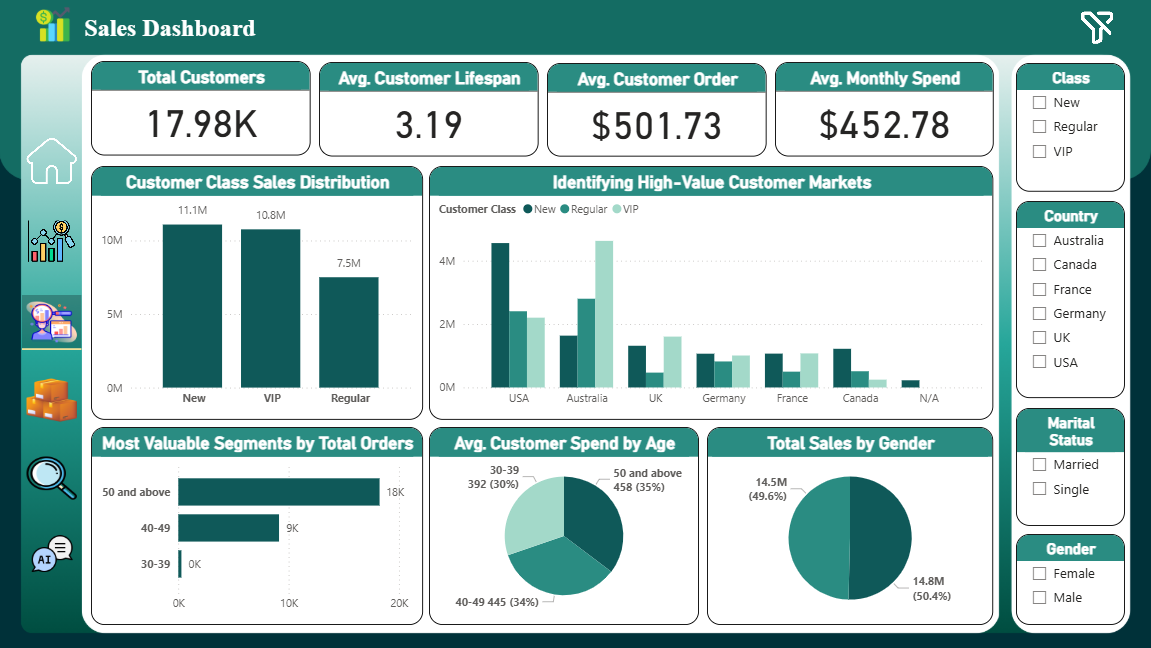

The dashboard page shown, as its layout file describes it:
{"tool":"powerbi","page":{"name":"Customer Analytics","canvas":[1280,720],"ordinal":2},"visuals":[{"type":"textbox","title":"Sales Dashboard","box":[82.2,15.6,215.6,38.9],"z":0,"group":"g1"},{"type":"card","title":"Total Customers","fields":{"Values":["Count(gold fact_sales.customer_key)"]},"box":[102.1,68.1,244.1,105],"z":0},{"type":"image","box":[27.8,0,63.3,54.4],"z":1000,"group":"g1"},{"type":"card","title":"Avg. Customer Order","fields":{"Values":["gold dim_customers.Avg_Customer_Order"]},"box":[608.9,70,244.1,104.1],"z":1000},{"type":"lineClusteredColumnComboChart","title":"Customer Class Sales Distribution","fields":{"Category":["gold report_customers.customer_segment"],"Y":["Sum(gold report_customers.total_sales)"]},"box":[102.2,184.4,368.9,282.2],"z":2000},{"type":"barChart","title":"Most Valuable Segments by Total Orders","fields":{"Category":["gold report_customers.age_group"],"Y":["Sum(gold report_customers.total_orders)"]},"box":[102.1,474.4,368.9,220],"z":3000},{"type":"pieChart","title":"Avg. Customer Spend by Age","fields":{"Category":["gold report_customers.age_group"],"Y":["Avg(gold report_customers.avg_monthly_spend)"]},"box":[477.8,474.4,300,220],"z":4000},{"type":"pieChart","title":"Total Sales by Gender","fields":{"Category":["gold dim_customers.gender"],"Y":["Sum(gold fact_sales.sales_amount)"]},"box":[786.9,474.7,318.1,219.8],"z":5000},{"type":"card","title":"Avg. Monthly Spend","fields":{"Values":["gold report_customers.Avg. Monthly_Spend"]},"box":[861.8,69.1,243.2,105],"z":6000},{"type":"card","title":"Avg. Customer Lifespan","fields":{"Values":["gold report_customers.Avg. Customer Lifespan"]},"box":[355,69.1,244.1,105],"z":7000},{"type":"slicer","title":"Gender","fields":{"Values":["gold dim_customers.gender"]},"box":[1130.2,593.3,120.6,101.2],"z":8000},{"type":"slicer","title":"Country","fields":{"Values":["gold dim_customers.country"]},"box":[1130.2,223.7,120.6,218.8],"z":9000},{"type":"slicer","title":"Marital Status","fields":{"Values":["gold dim_customers.marital_status"]},"box":[1130.2,453.3,120.6,131.3],"z":10000},{"type":"clusteredColumnChart","title":"Identifying High-Value Customer Markets","fields":{"Y":["Sum(gold report_customers.total_sales)"],"Category":["gold dim_customers.country"],"Series":["gold report_customers.customer_segment"]},"box":[477.6,184.8,627.4,282.1],"z":11000},{"type":"group","id":"g1","title":"Group 1","box":[27.8,0,270,54.4],"z":12000},{"type":"slicer","title":"Class","fields":{"Values":["gold report_customers.customer_segment"]},"box":[1130.2,70,120.6,143],"z":13000},{"type":"image","box":[1191,8,58,46],"z":14000},{"type":"image","box":[25,240,66,56],"z":15000},{"type":"image","box":[25,328,66,60],"z":16000},{"type":"image","box":[25,416,66,58],"z":17000},{"type":"shape","box":[26,379,66,18],"z":18000},{"type":"image","box":[25,502,66,58],"z":19000},{"type":"image","box":[25,587,66,57],"z":20000},{"type":"image","box":[25,148,66,62],"z":21000}]}

Visuals, with their boxes in screenshot pixels (x1, y1, x2, y2), scaled from the page's 1280x720 canvas onto the 1151x648 screenshot:
"Sales Dashboard" textbox: box=[74, 14, 268, 49]
"Total Customers" card: box=[92, 61, 311, 156]
image: box=[25, 0, 82, 49]
"Avg. Customer Order" card: box=[548, 63, 767, 157]
"Customer Class Sales Distribution" lineClusteredColumnComboChart: box=[92, 166, 424, 420]
"Most Valuable Segments by Total Orders" barChart: box=[92, 427, 424, 625]
"Avg. Customer Spend by Age" pieChart: box=[430, 427, 699, 625]
"Total Sales by Gender" pieChart: box=[708, 427, 994, 625]
"Avg. Monthly Spend" card: box=[775, 62, 994, 157]
"Avg. Customer Lifespan" card: box=[319, 62, 539, 157]
"Gender" slicer: box=[1016, 534, 1125, 625]
"Country" slicer: box=[1016, 201, 1125, 398]
"Marital Status" slicer: box=[1016, 408, 1125, 526]
"Identifying High-Value Customer Markets" clusteredColumnChart: box=[429, 166, 994, 420]
"Group 1" group: box=[25, 0, 268, 49]
"Class" slicer: box=[1016, 63, 1125, 192]
image: box=[1071, 7, 1123, 49]
image: box=[22, 216, 82, 266]
image: box=[22, 295, 82, 349]
image: box=[22, 374, 82, 427]
shape: box=[23, 341, 83, 357]
image: box=[22, 452, 82, 504]
image: box=[22, 528, 82, 580]
image: box=[22, 133, 82, 189]
